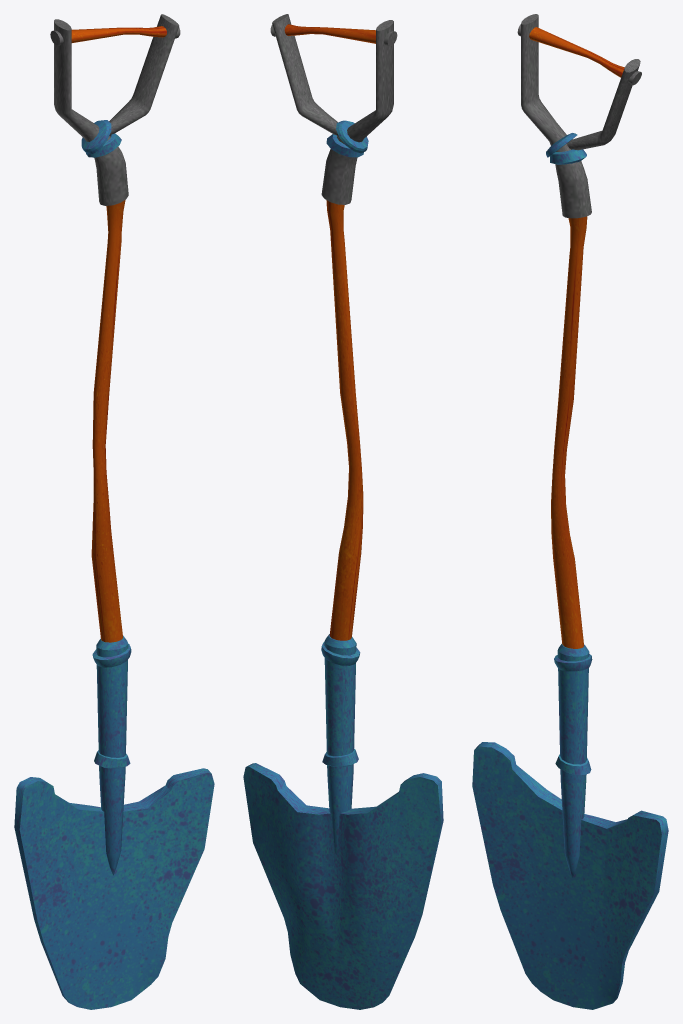
The model's file is Shovel.obj.
The picture shows the model from 3 angles, left to right: view 1: azimuth 30°, elevation 25°; view 2: azimuth 150°, elevation 25°; view 3: azimuth 330°, elevation 25°; orthographic projection.
Visible parts, largest first — view 1: shovel_2; view 2: shovel_2; view 3: shovel_2.
Part boxes in pixels (left/top/right/bottom): shovel_2: left=14, top=14, right=214, bottom=1009; shovel_2: left=243, top=14, right=443, bottom=1009; shovel_2: left=472, top=14, right=668, bottom=1009.
Size of the model in its own units: 0.2867 by 1.38 by 0.047.
